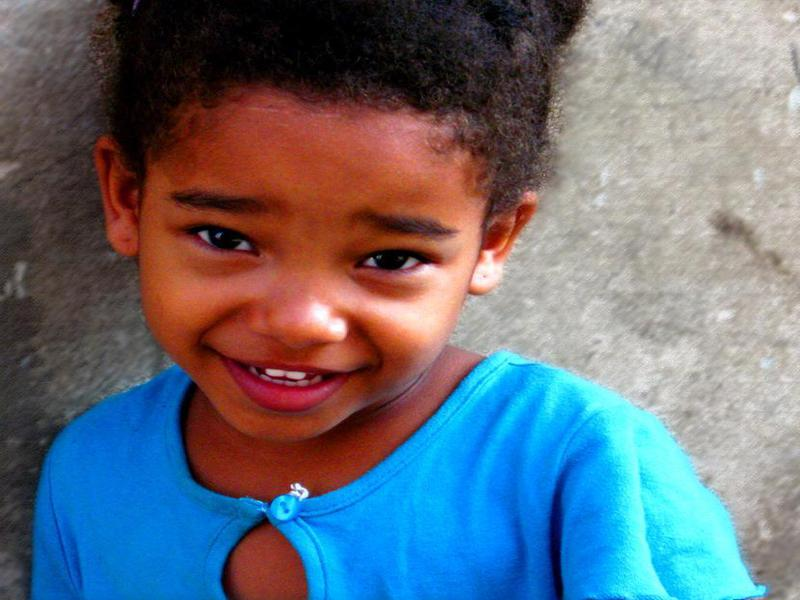person: (41, 5, 767, 600)
